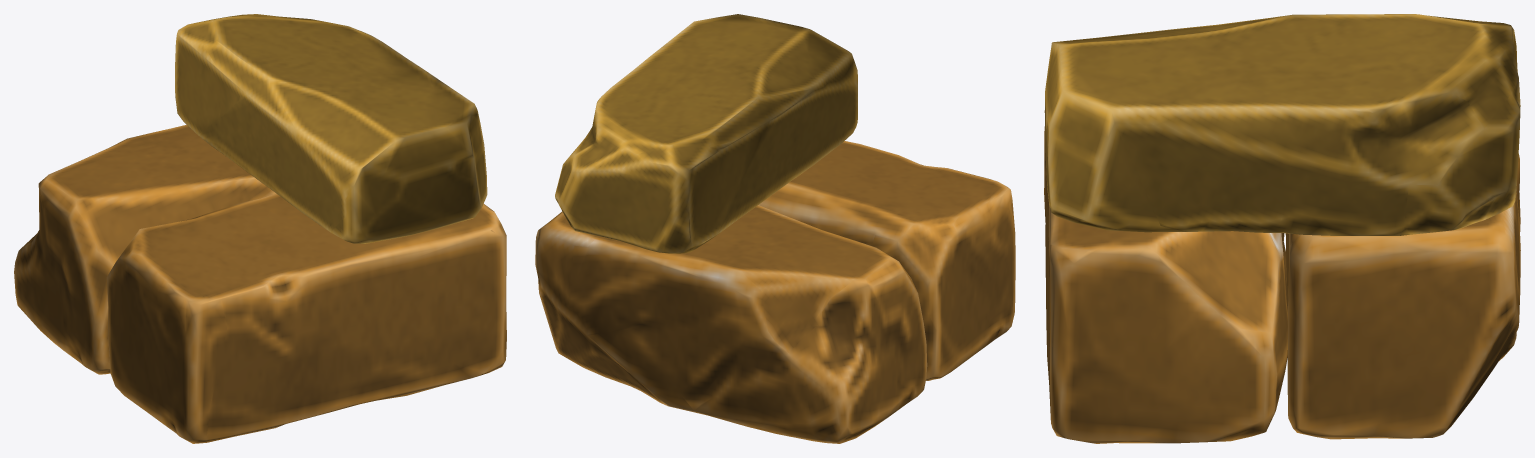
Rendered from Wall_normal_second.fbx.
The picture shows the model from 3 angles, left to right: view 1: azimuth 30°, elevation 25°; view 2: azimuth 150°, elevation 25°; view 3: azimuth 270°, elevation 25°; orthographic projection. The views are drawn at different scales.
Visible parts, largest first — view 1: Wall_Normal_Second002; view 2: Wall_Normal_Second002; view 3: Wall_Normal_Second002.
Part boxes in pixels (bbox=[...]): Wall_Normal_Second002: bbox=[14, 14, 506, 443]; Wall_Normal_Second002: bbox=[535, 14, 1015, 443]; Wall_Normal_Second002: bbox=[1044, 14, 1520, 443].
Bounding box in the file's own units: 199 × 154 × 194.
